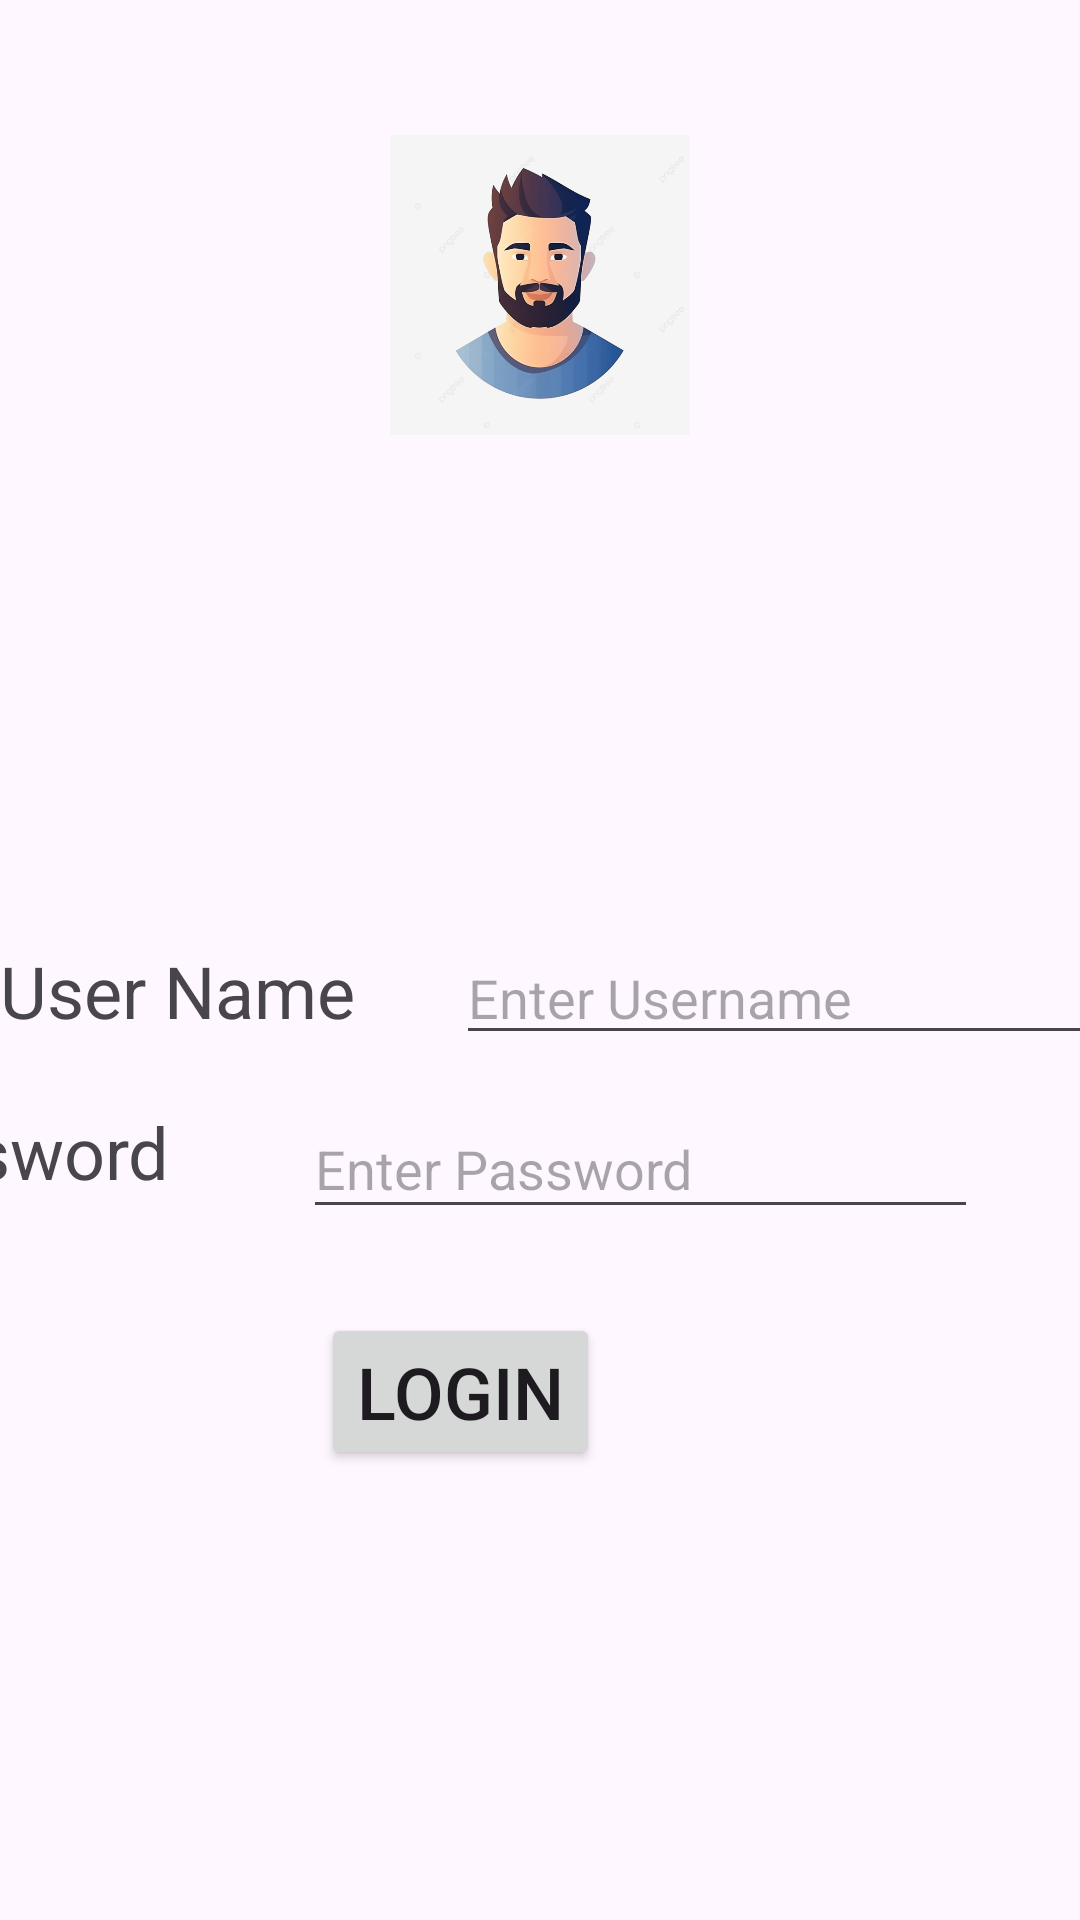

Named icons in this screenshot (1080w x 1920h) and their bounding boxes, (x1, y1, x2, y2):
Avatar image: (456, 168, 624, 399)
